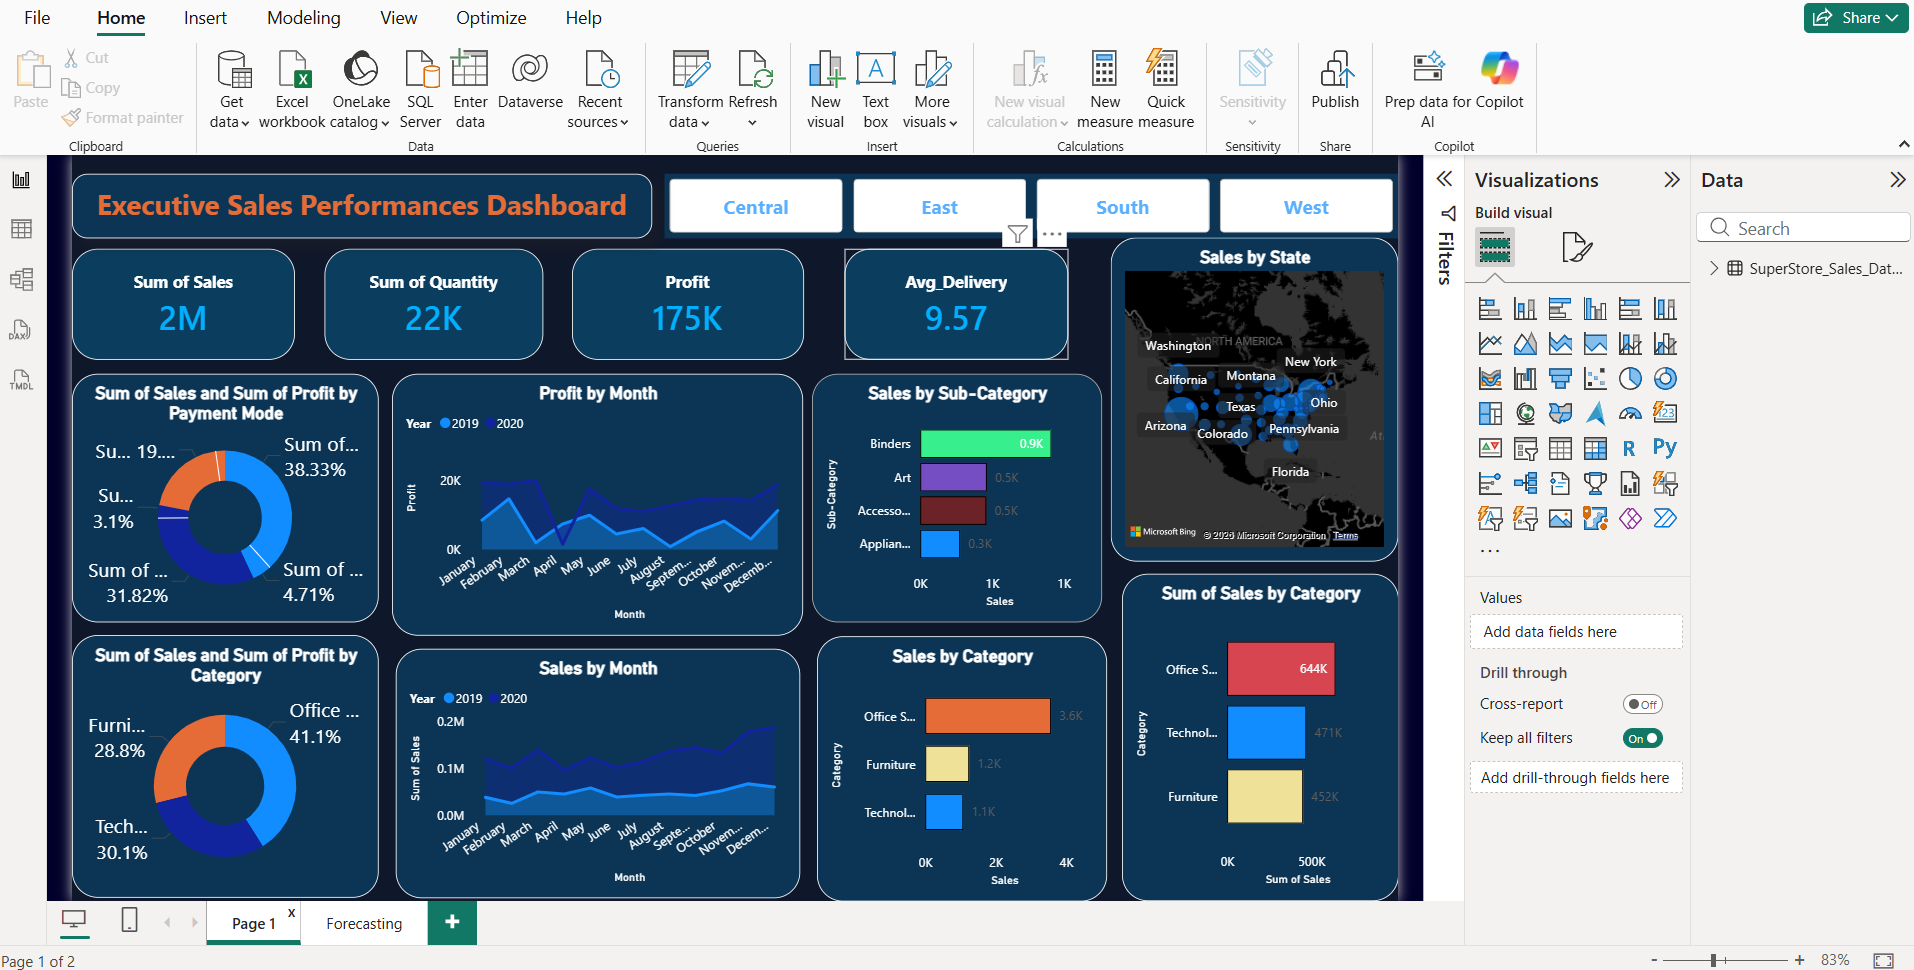

The dashboard page shown, as its layout file describes it:
{"tool":"powerbi","page":{"name":"Page 1","canvas":[1280,720],"ordinal":0},"visuals":[{"type":"barChart","fields":{"Category":["SuperStore_Sales_Dataset.Category"],"Y":["CountNonNull(SuperStore_Sales_Dataset.Sales)"]},"box":[718.6,464.3,280,255.7],"z":0},{"type":"barChart","fields":{"Category":["SuperStore_Sales_Dataset.Sub-Category"],"Y":["CountNonNull(SuperStore_Sales_Dataset.Sales)"]},"box":[714.3,211.4,280,240],"z":1000},{"type":"stackedAreaChart","title":"Profit by Month","fields":{"Category":["SuperStore_Sales_Dataset.Order Date.Variation.Date Hierarchy.Month"],"Series":["SuperStore_Sales_Dataset.Order Date.Variation.Date Hierarchy.Year"],"Y":["Sum(SuperStore_Sales_Dataset.Profit)"]},"box":[308.6,211.4,397.1,252.9],"z":2000},{"type":"stackedAreaChart","title":"Sales by Month","fields":{"Y":["Sum(SuperStore_Sales_Dataset.Sales)"],"Category":["SuperStore_Sales_Dataset.Order Date.Variation.Date Hierarchy.Month"],"Series":["SuperStore_Sales_Dataset.Order Date.Variation.Date Hierarchy.Year"]},"box":[312.5,476.2,390,241],"z":3000},{"type":"barChart","fields":{"Category":["SuperStore_Sales_Dataset.Category"],"Y":["Sum(SuperStore_Sales_Dataset.Sales)"]},"box":[1012.9,404.3,267.1,315.7],"z":4000},{"type":"cardVisual","fields":{"Data":["Sum(SuperStore_Sales_Dataset.Profit)"]},"box":[482.5,90,223.8,107.5],"z":5000},{"type":"cardVisual","fields":{"Data":["Sum(SuperStore_Sales_Dataset.Quantity)"]},"box":[243.8,90,211.2,107.5],"z":6000},{"type":"cardVisual","fields":{"Data":["Sum(SuperStore_Sales_Dataset.Sales)"]},"box":[0,90,215,107.5],"z":7000},{"type":"map","title":"Sales by State","fields":{"Category":["SuperStore_Sales_Dataset.State"],"Size":["Sum(SuperStore_Sales_Dataset.Sales)"]},"box":[1002.5,80,277.5,312.5],"z":8000},{"type":"donutChart","fields":{"Category":["SuperStore_Sales_Dataset.Category"],"Y":["Sum(SuperStore_Sales_Dataset.Sales)"]},"box":[0,463.8,296.2,253.8],"z":9000},{"type":"advancedSlicerVisual","fields":{"Values":["SuperStore_Sales_Dataset.Region"]},"box":[571.2,17.5,708.8,62.5],"z":10000},{"type":"cardVisual","fields":{"Data":["Avg(SuperStore_Sales_Dataset.Avg_Delivery)"]},"box":[745,90,216.2,107.5],"z":11000},{"type":"donutChart","fields":{"Y":["Sum(SuperStore_Sales_Dataset.Sales)","Sum(SuperStore_Sales_Dataset.Profit)"],"Category":["SuperStore_Sales_Dataset.Payment Mode"]},"box":[0,211.2,296.2,240],"z":12000},{"type":"textbox","box":[0,17.5,560,62.5],"z":12001}]}

Visuals, with their boxes on the page's 1280x720 design canvas (x1, y1, x2, y2). These are canvas units, not pixel positions in the 1914x970 screenshot, which may show the page scaled, cropped or inside an application window:
barChart - SuperStore_Sales_Dataset.Category x CountNonNull(SuperStore_Sales_Dataset.Sales): rect(719, 464, 999, 720)
barChart - SuperStore_Sales_Dataset.Sub-Category x CountNonNull(SuperStore_Sales_Dataset.Sales): rect(714, 211, 994, 451)
"Profit by Month" stackedAreaChart: rect(309, 211, 706, 464)
"Sales by Month" stackedAreaChart: rect(312, 476, 702, 717)
barChart - SuperStore_Sales_Dataset.Category x Sum(SuperStore_Sales_Dataset.Sales): rect(1013, 404, 1280, 720)
cardVisual - Sum(SuperStore_Sales_Dataset.Profit): rect(482, 90, 706, 198)
cardVisual - Sum(SuperStore_Sales_Dataset.Quantity): rect(244, 90, 455, 198)
cardVisual - Sum(SuperStore_Sales_Dataset.Sales): rect(0, 90, 215, 198)
"Sales by State" map: rect(1002, 80, 1280, 392)
donutChart - SuperStore_Sales_Dataset.Category x Sum(SuperStore_Sales_Dataset.Sales): rect(0, 464, 296, 718)
advancedSlicerVisual - SuperStore_Sales_Dataset.Region: rect(571, 18, 1280, 80)
cardVisual - Avg(SuperStore_Sales_Dataset.Avg_Delivery): rect(745, 90, 961, 198)
donutChart - Sum(SuperStore_Sales_Dataset.Sales) x Sum(SuperStore_Sales_Dataset.Profit): rect(0, 211, 296, 451)
textbox: rect(0, 18, 560, 80)
